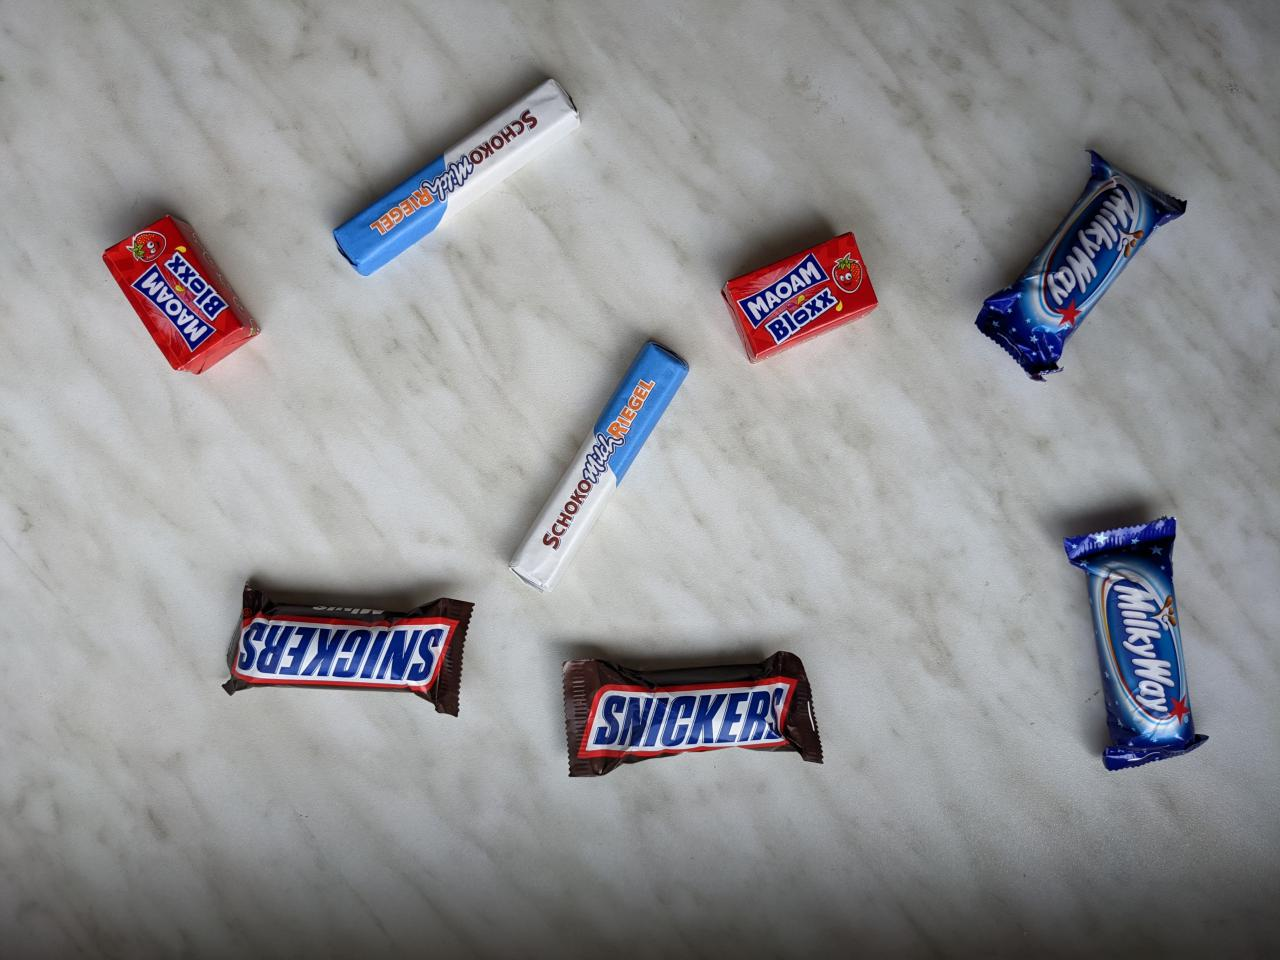MAOAM: (98, 206, 265, 380), (715, 228, 885, 369)
MilkyWay: (969, 143, 1195, 389), (1059, 508, 1215, 776)
Schokoriegel: (327, 72, 589, 282), (502, 332, 697, 600)
Snickers: (218, 572, 478, 722), (558, 649, 829, 784)
